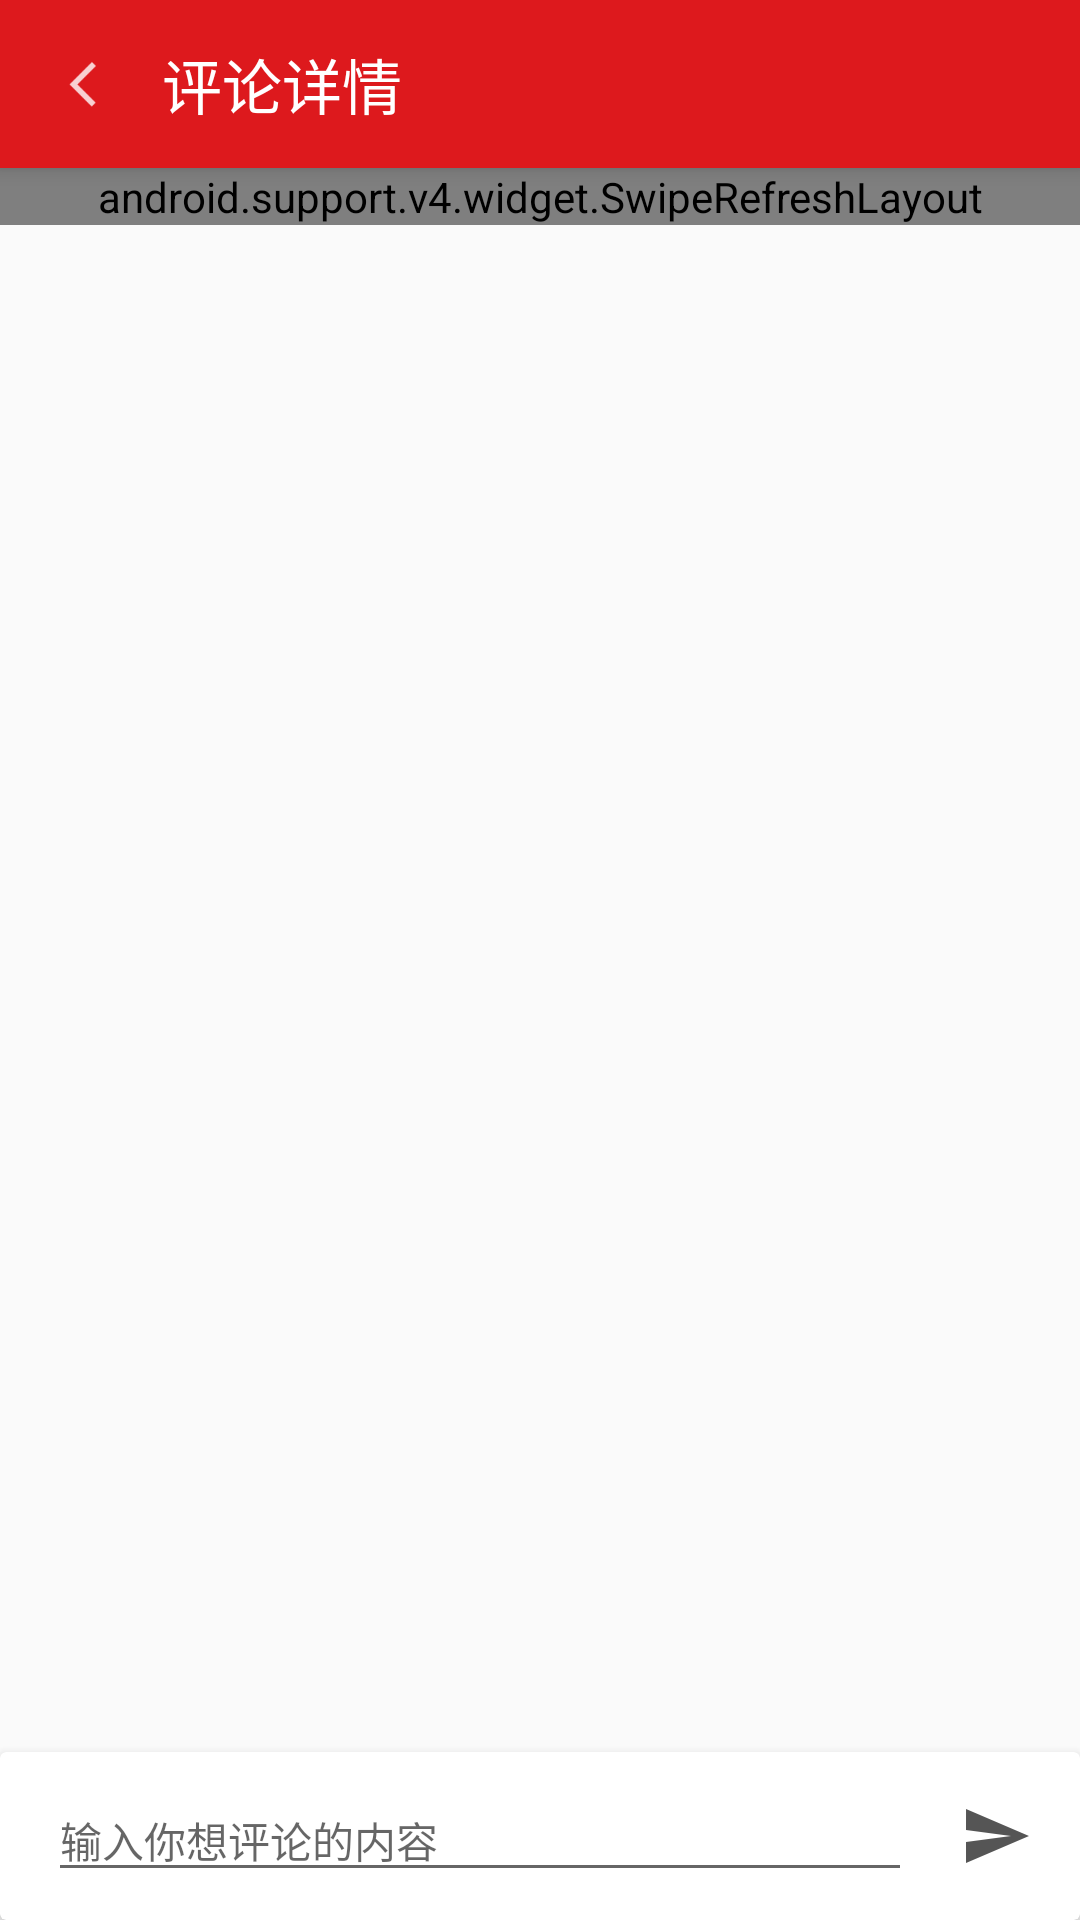

Screen size 1080 x 1920. Icon name, then its center in pixels as (x,y):
return: (82,84)
send: (997,1836)
